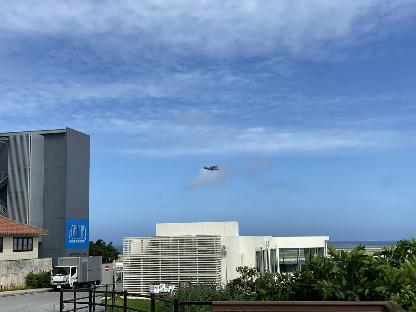Be200: (202, 164, 220, 170)
